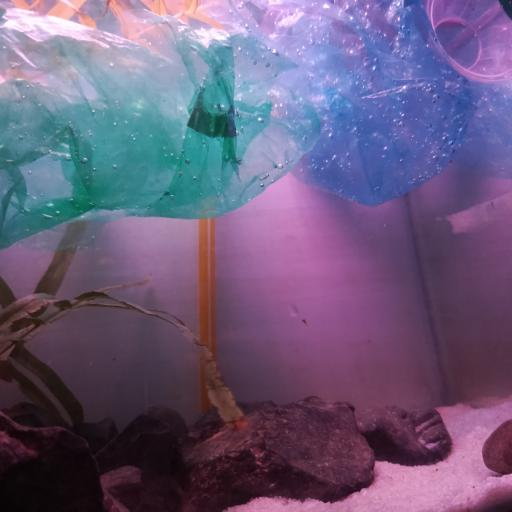plastic_bag: (0, 0, 328, 253), (220, 0, 512, 209)
plastic_cup: (422, 0, 512, 84)
